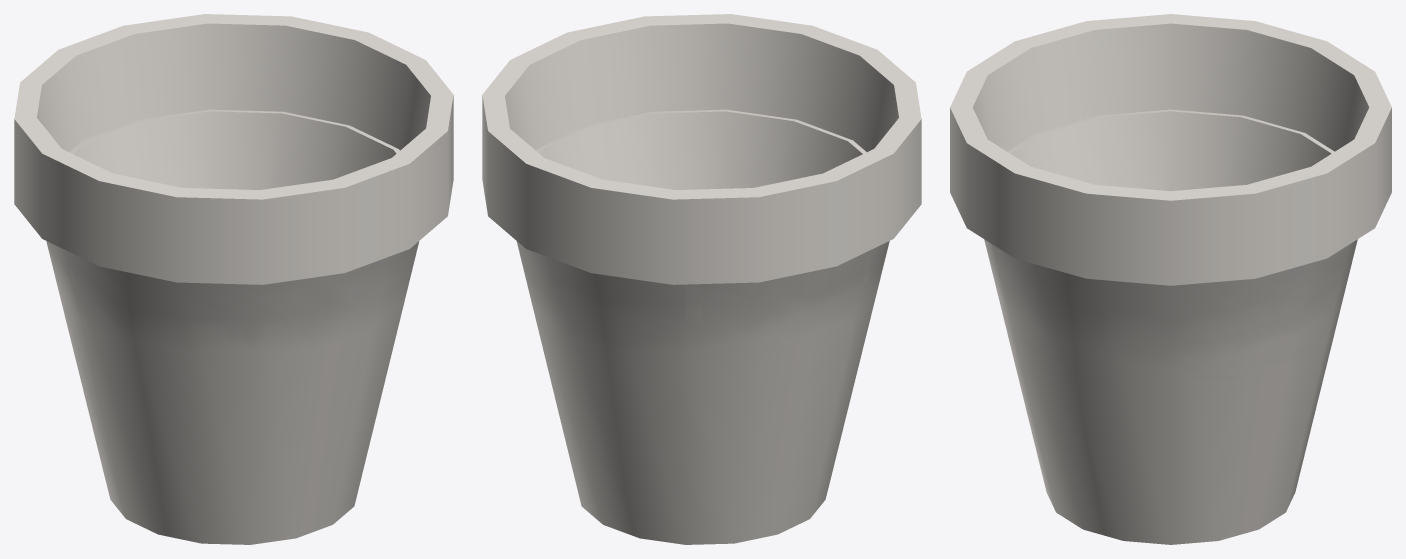
The model's file is copo vazio .fbx.
3 views of the same model, side by side, from view 1: azimuth 30°, elevation 25°; view 2: azimuth 150°, elevation 25°; view 3: azimuth 270°, elevation 25° (orthographic).
Visible parts, largest first — view 1: copinho vazio; view 2: copinho vazio; view 3: copinho vazio.
Part boxes in pixels (x1,y1,x2,y2): copinho vazio: [14, 14, 453, 544]; copinho vazio: [482, 14, 921, 544]; copinho vazio: [950, 14, 1391, 544].
Bounding box in the file's own units: 66.84 × 64.26 × 66.84.
